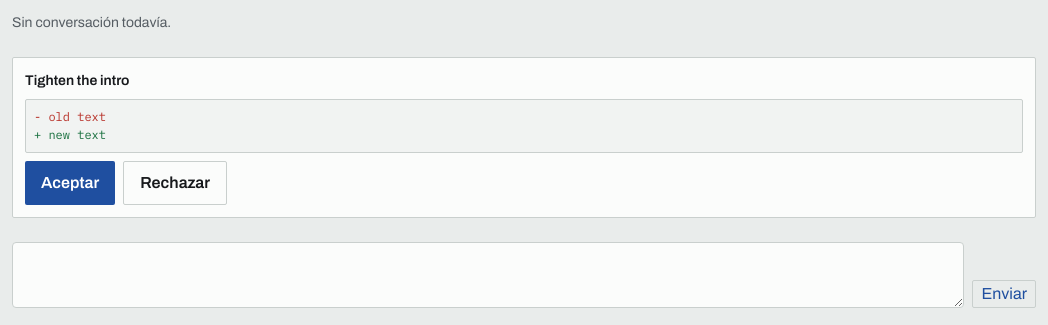
Test: AgentPanel › a stale acceptance result updates the card in place, without waiting for a reload
Expected: the text "Tighten the intro" is shown, x1=25 y1=73 x2=130 y2=88
Step 1. Click the button "Aceptar" → (70, 183), box x1=25 y1=161 x2=115 y2=205
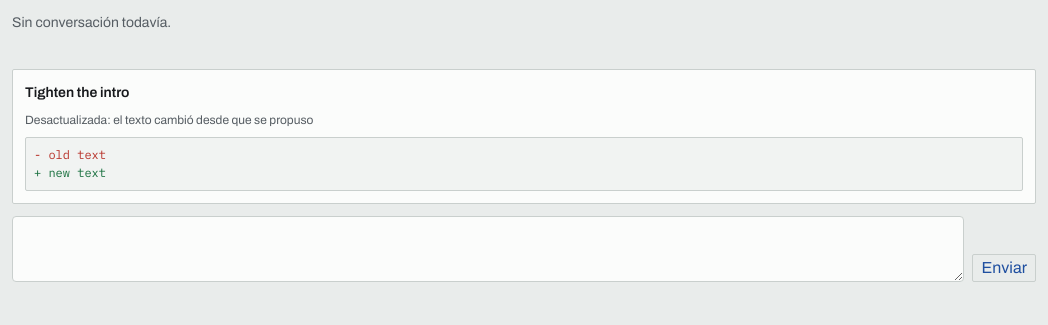
Result: the text "Desactualizada: el texto cambió desde que se propuso" is shown at x1=25 y1=113 x2=313 y2=127
